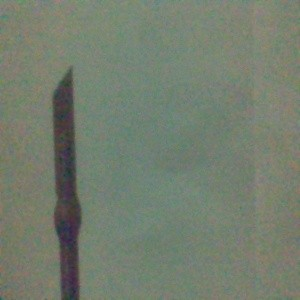cutter: (51, 65, 82, 300)
